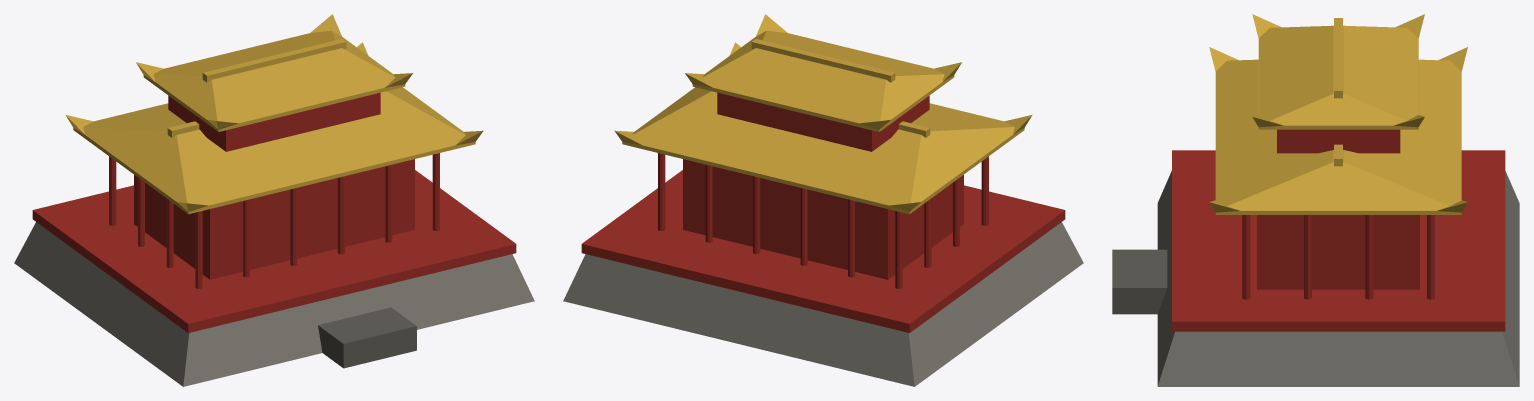
File: keep.glb
The picture shows the model from 3 angles, left to right: view 1: azimuth 30°, elevation 25°; view 2: azimuth 150°, elevation 25°; view 3: azimuth 270°, elevation 25°; orthographic projection. The views are drawn at different scales.
Parts seen in each view (by area): view 1: Keep; view 2: Keep; view 3: Keep.
Part boxes in pixels (x1,y1,x2,y2): Keep: [14, 14, 534, 386]; Keep: [563, 14, 1083, 386]; Keep: [1112, 14, 1519, 386].
Bounding box in the file's own units: 24 × 14.66 × 22.5.
